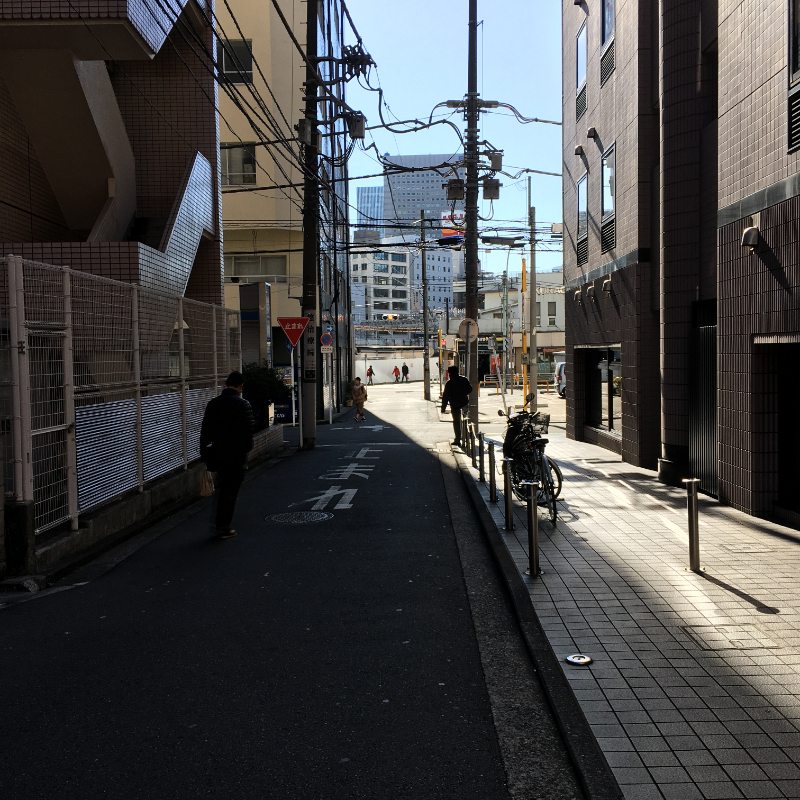STOP: (271, 315, 314, 347)
